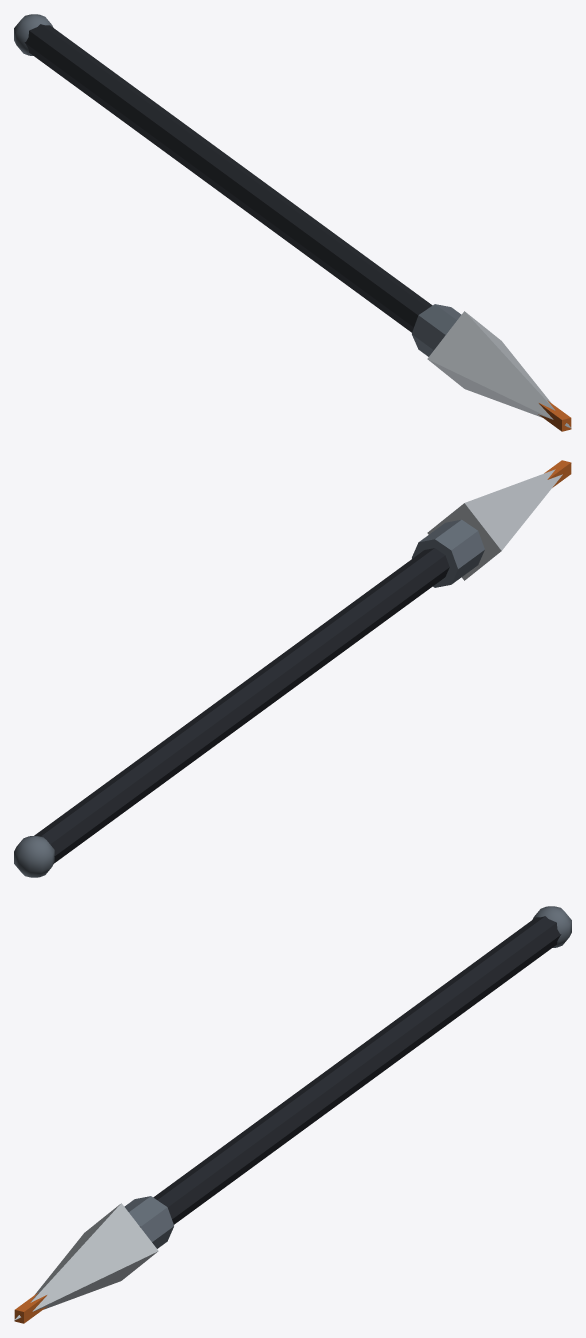
File: vibro-pike.glb
3 renders of one model, top to bottom at view 1: azimuth 30°, elevation 25°; view 2: azimuth 150°, elevation 25°; view 3: azimuth 330°, elevation 25°, orthographic.
Visible parts, largest first — view 1: vibro-pike; view 2: vibro-pike; view 3: vibro-pike.
Part boxes in pixels (x1,y1,x2,y2): vibro-pike: [14, 14, 571, 431]; vibro-pike: [14, 460, 571, 877]; vibro-pike: [14, 906, 571, 1323].
Bounding box in the file's own units: 0.08 × 0.08 × 1.02.
